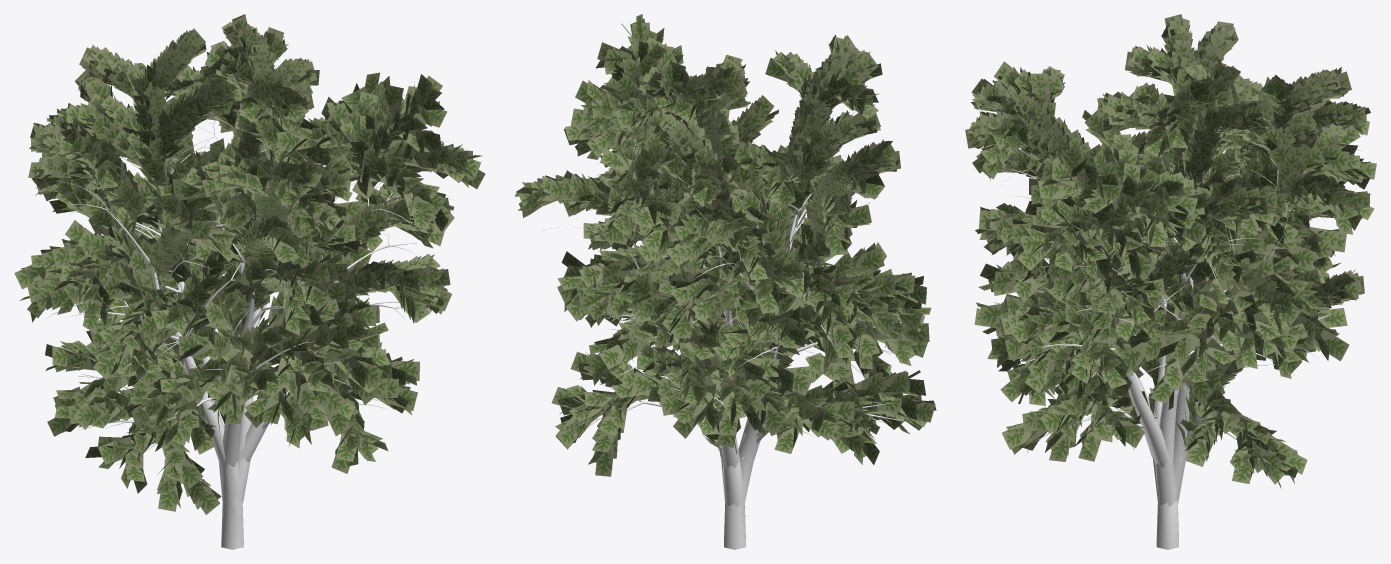
Rendered from tree_pine2.glb.
3 renders of one model, left to right at view 1: azimuth 30°, elevation 25°; view 2: azimuth 150°, elevation 25°; view 3: azimuth 270°, elevation 25°, orthographic.
Parts seen in each view (by area): view 1: leaves.008, tree.010; view 2: leaves.008, tree.010; view 3: leaves.008, tree.010.
Boxes of the visible parts, x1,y1,x2,y2 form: leaves.008: (14,14,485,514); tree.010: (46,114,454,549); leaves.008: (514,14,936,476); tree.010: (543,106,910,549); leaves.008: (965,14,1376,488); tree.010: (999,131,1343,549).
Size of the model in its own units: 7.42 by 9.23 by 6.87.
2 materials, 1 textured.
